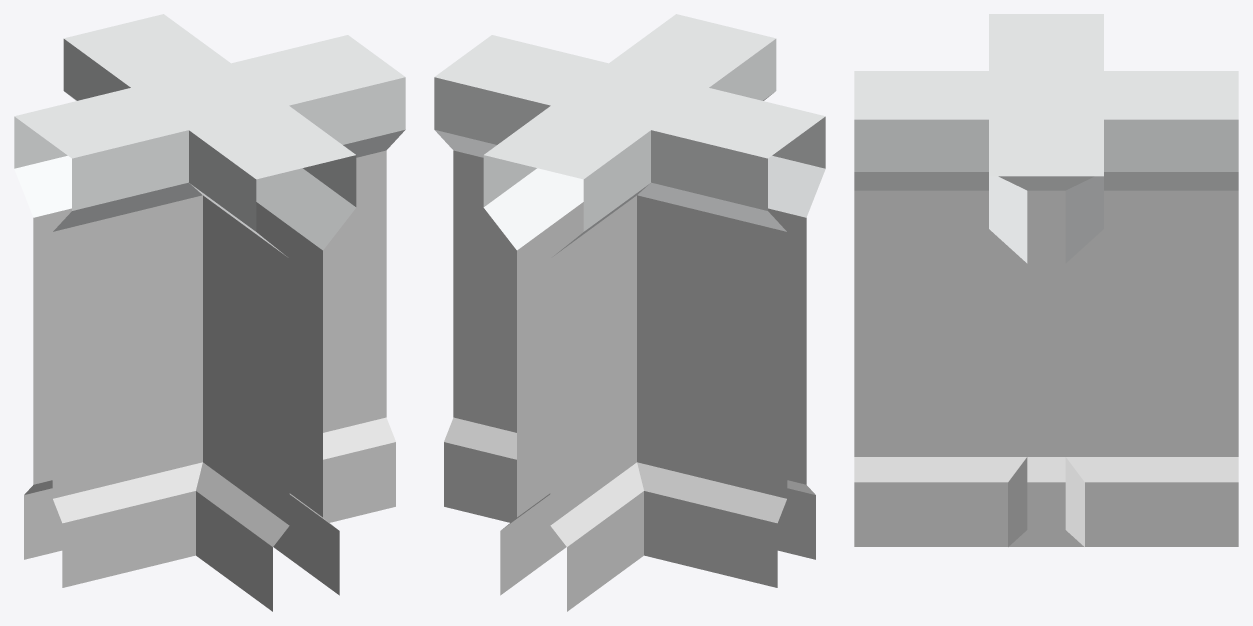
Rendered from wall_cross.fbx.
The picture shows the model from 3 angles, left to right: view 1: azimuth 30°, elevation 25°; view 2: azimuth 150°, elevation 25°; view 3: azimuth 270°, elevation 25°; orthographic projection.
Visible parts, largest first — view 1: wall_cross; view 2: wall_cross; view 3: wall_cross.
Part boxes in pixels (left/top/right/bottom): wall_cross: left=14, top=14, right=405, bottom=611; wall_cross: left=434, top=14, right=825, bottom=611; wall_cross: left=854, top=14, right=1238, bottom=546.
Bounding box in the file's own units: 2 × 2.5 × 2.
